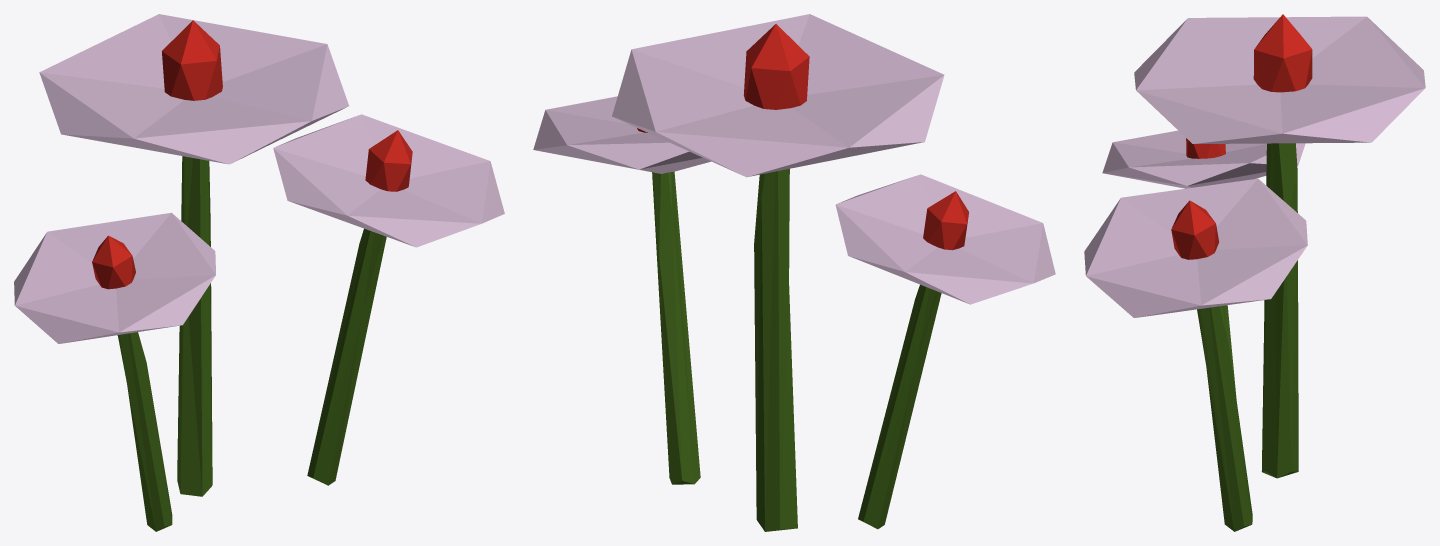
The model's file is flower11.obj.
3 views of the same model, side by side, from view 1: azimuth 30°, elevation 25°; view 2: azimuth 150°, elevation 25°; view 3: azimuth 270°, elevation 25° (orthographic). The views are drawn at different scales.
Visible parts, largest first — view 1: Flower1-1_Cube.006; view 2: Flower1-1_Cube.006; view 3: Flower1-1_Cube.006.
Part boxes in pixels (x1,y1,x2,y2): Flower1-1_Cube.006: (14, 14, 504, 531); Flower1-1_Cube.006: (533, 14, 1055, 531); Flower1-1_Cube.006: (1084, 14, 1425, 531).
Bounding box in the file's own units: 0.4478 × 0.4346 × 0.2911.
